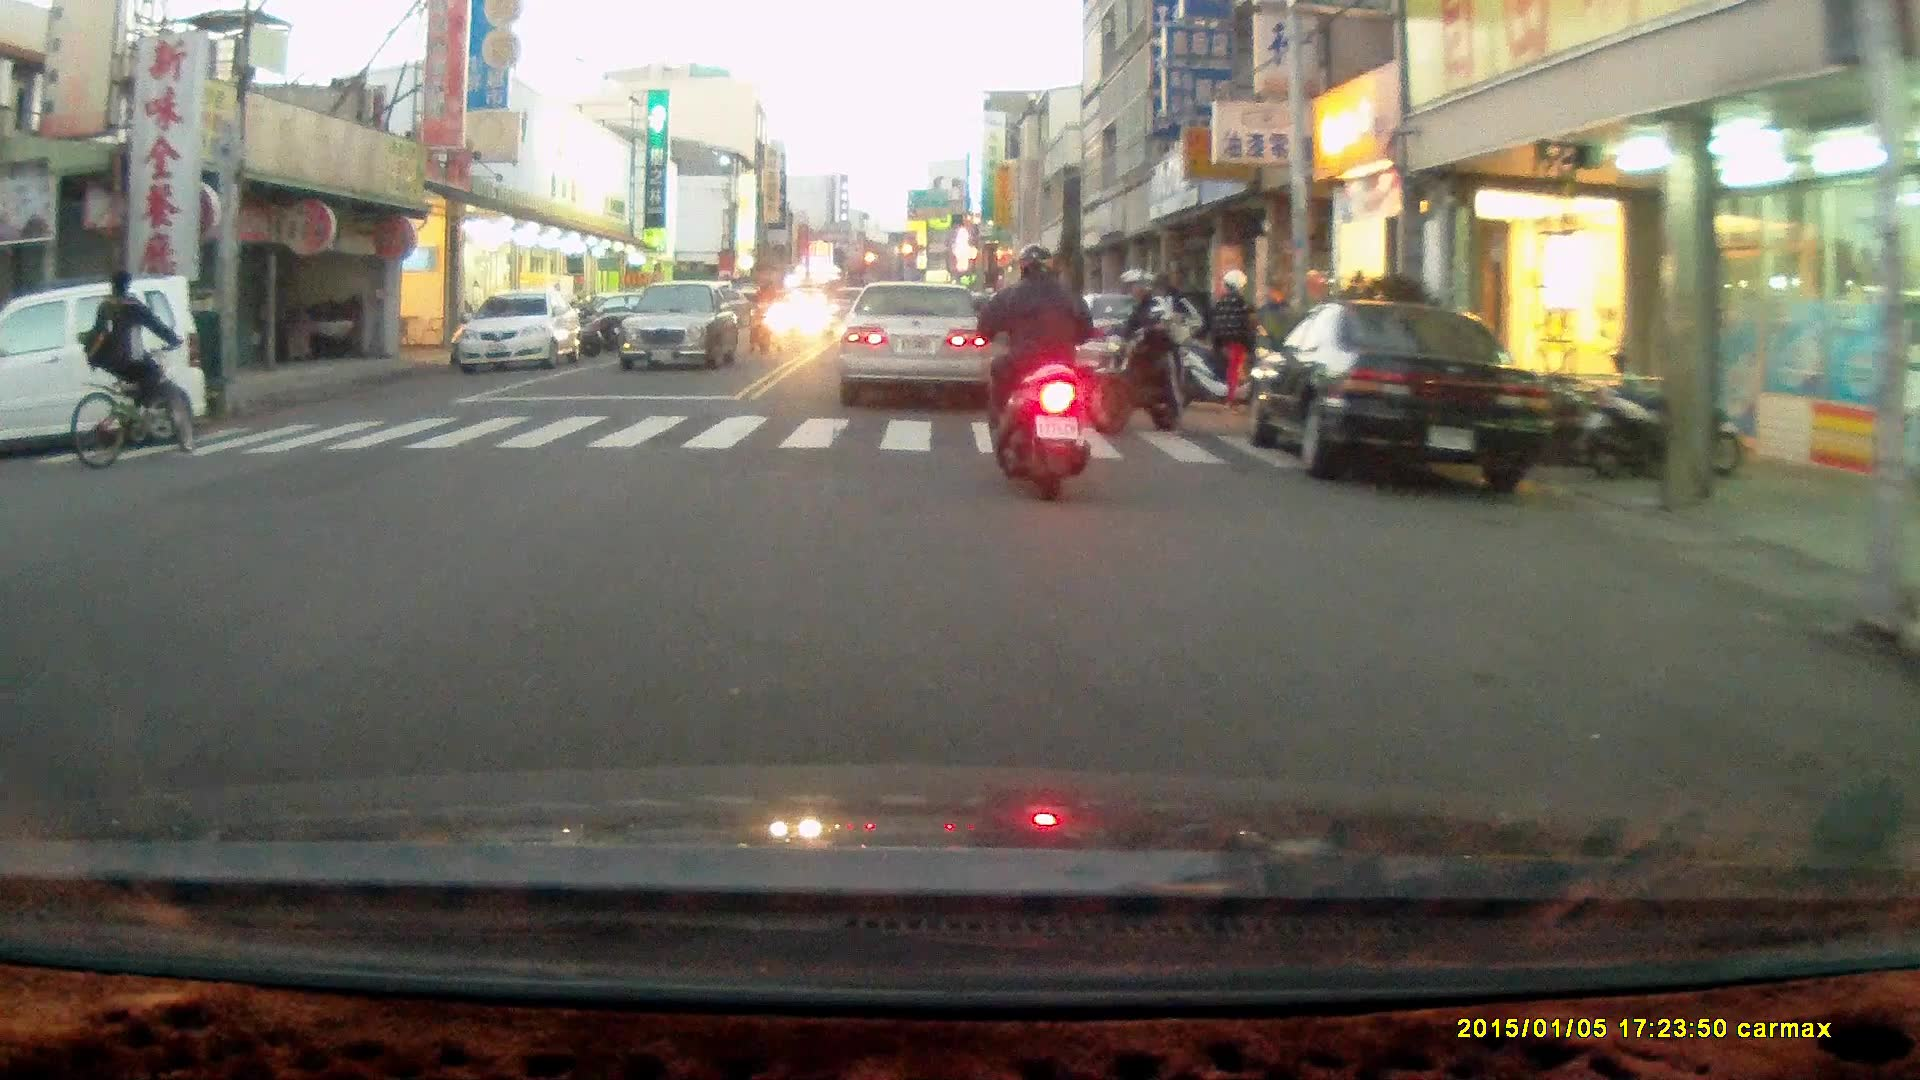pedestrian: (1215, 266, 1258, 414)
rider: (974, 239, 1097, 501), (64, 273, 190, 471), (1083, 264, 1206, 430), (744, 274, 786, 353)
vehicle: (1246, 302, 1554, 490), (1, 279, 213, 456), (848, 281, 1014, 408), (621, 279, 743, 374), (455, 292, 584, 372)
